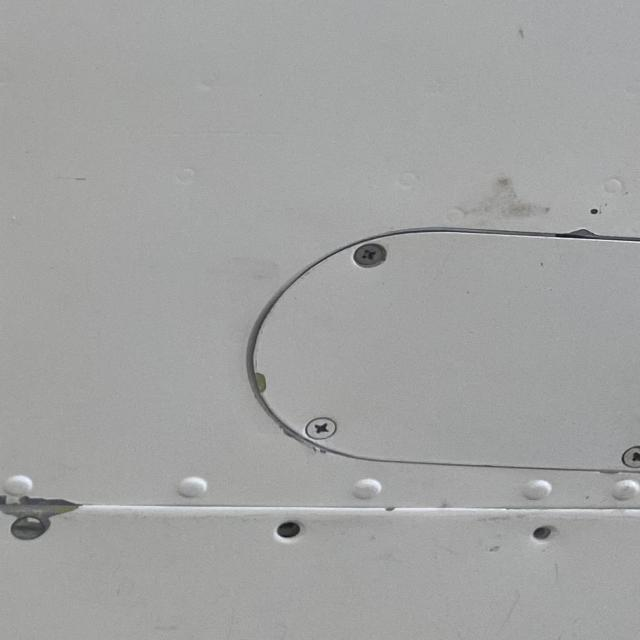Missing-head: (275, 520, 303, 541), (528, 524, 554, 542)
Paint-off: (0, 500, 78, 520), (557, 228, 603, 239), (252, 371, 271, 395)
